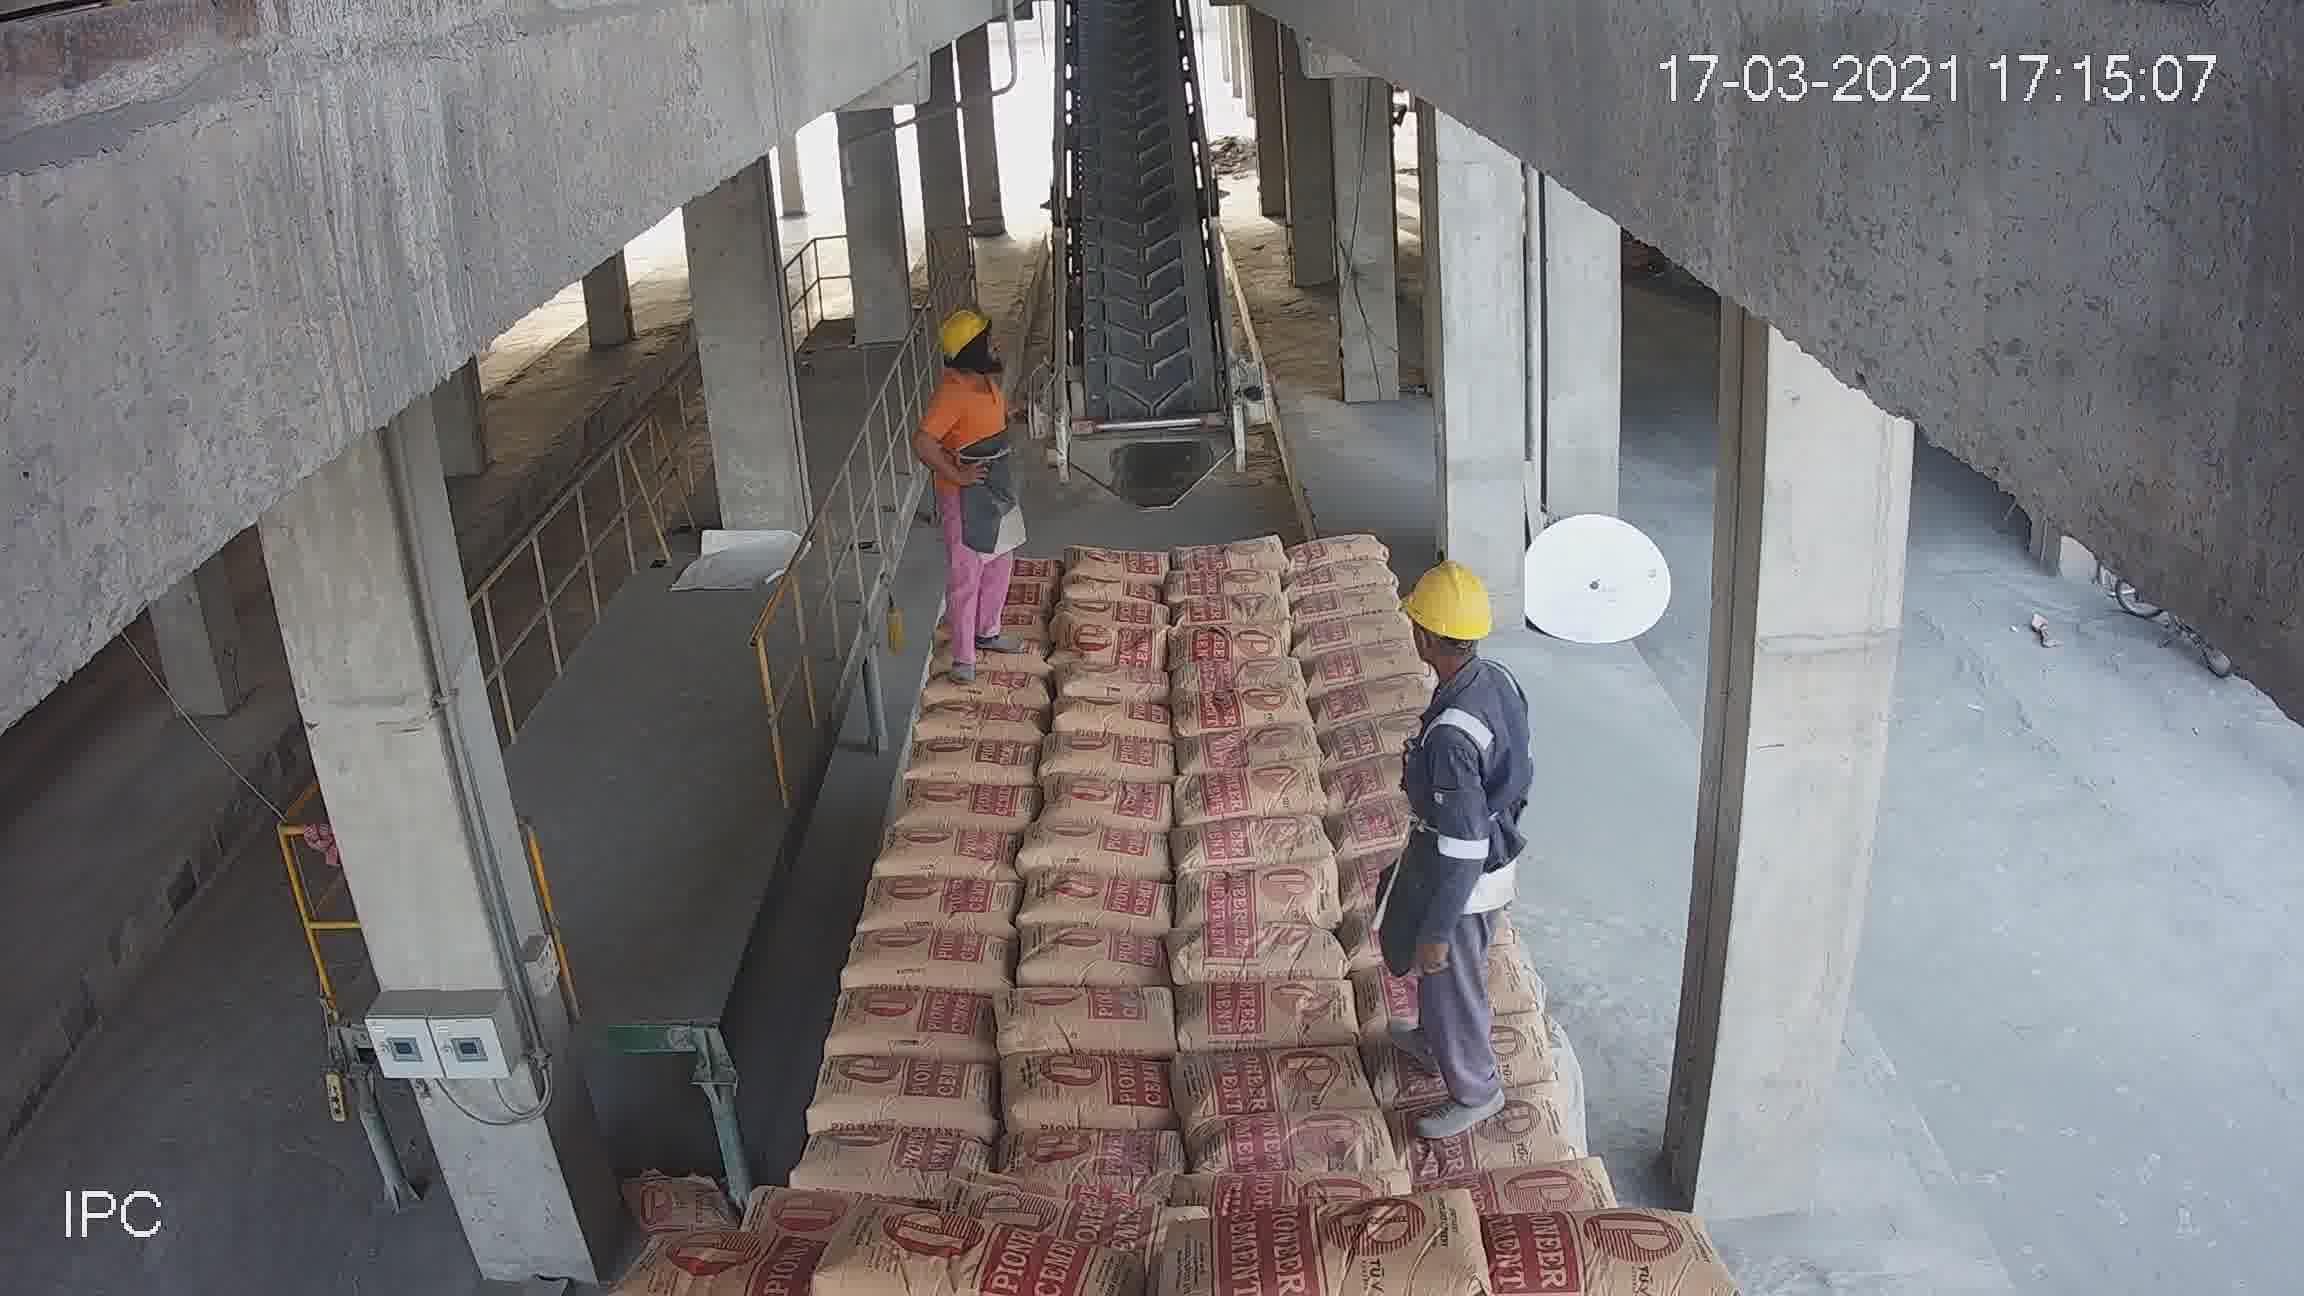bag_h: (1196, 1204, 1510, 1294), (805, 1218, 1120, 1296), (1442, 1209, 1701, 1291), (1397, 1086, 1582, 1180), (801, 1055, 1011, 1138), (635, 1223, 855, 1294), (1192, 1046, 1369, 1131), (1203, 1108, 1396, 1185), (1173, 975, 1366, 1051), (1008, 1052, 1188, 1133), (1002, 986, 1188, 1062), (790, 1127, 1002, 1188), (1173, 924, 1359, 994), (855, 872, 1029, 946), (832, 980, 1002, 1055), (995, 1122, 1185, 1188), (1435, 1161, 1616, 1226), (839, 927, 1014, 994), (1173, 809, 1334, 878), (1182, 861, 1334, 930), (1022, 817, 1165, 886), (1185, 760, 1329, 824), (1014, 934, 1176, 991), (1022, 873, 1180, 930), (900, 734, 1051, 793), (1043, 772, 1182, 834), (892, 782, 1040, 837), (873, 829, 1021, 881), (910, 696, 1059, 745), (1169, 654, 1307, 703), (1063, 611, 1168, 673), (1176, 687, 1310, 734), (1187, 725, 1320, 772), (921, 668, 1057, 714), (1049, 739, 1177, 786), (1059, 657, 1174, 707), (1309, 630, 1416, 684), (1166, 619, 1291, 663), (1301, 606, 1404, 658), (1317, 671, 1427, 718), (1052, 699, 1163, 745), (932, 628, 1044, 673), (1065, 541, 1176, 585), (1176, 529, 1307, 562), (1166, 565, 1285, 601), (1285, 524, 1389, 565), (1169, 592, 1288, 627), (1301, 582, 1400, 623), (1294, 557, 1399, 593), (1054, 573, 1165, 606), (1060, 600, 1171, 633)
belt: (1046, 13, 1234, 453)
